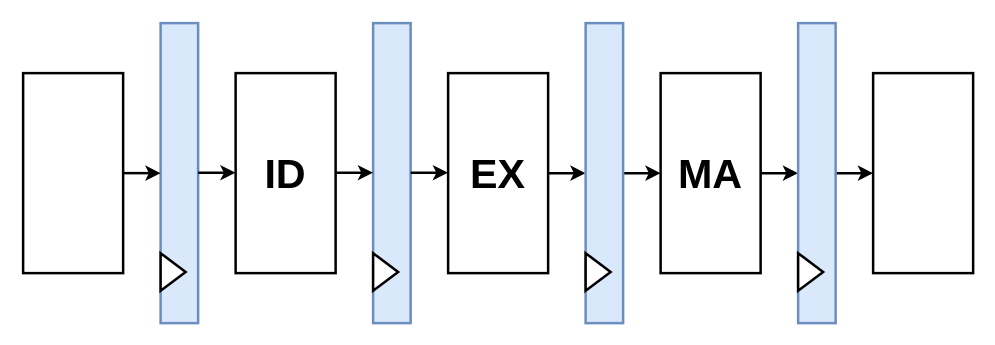
The diagram is 995 pixels wide and 345 high, and some of its shapes have lost their labels. The shapes that lost their labels are listed below. From the top down, each one's centre as x and y in pixels, then its label:
(72,172): IF
(922,172): WB
